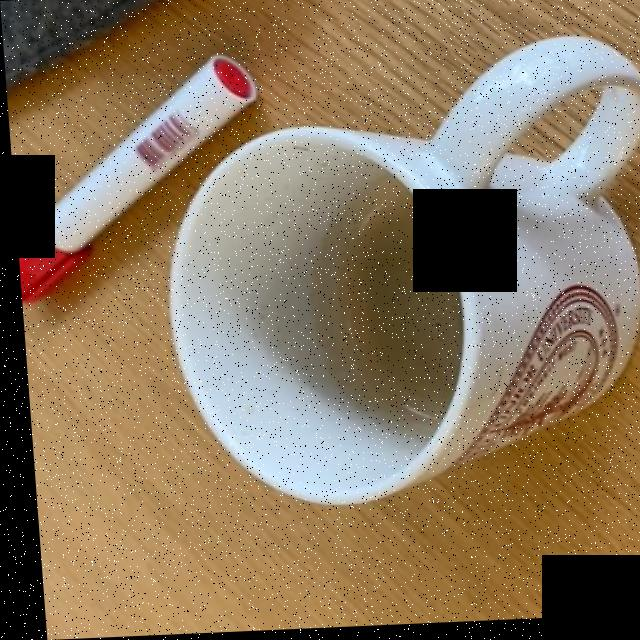coffee-with-caffeine: (327, 178, 455, 433)
